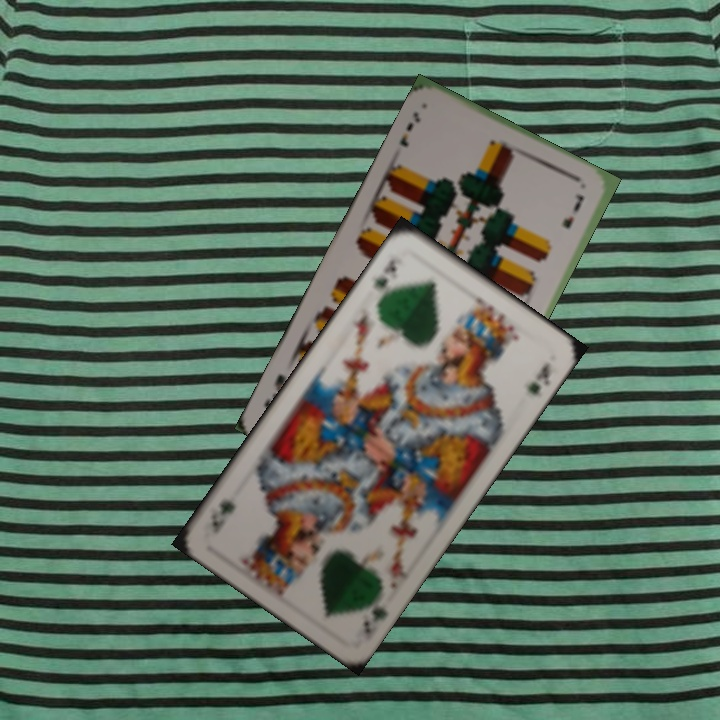E7: (396, 108, 424, 150)
GK: (369, 253, 405, 292), (359, 601, 390, 637)
